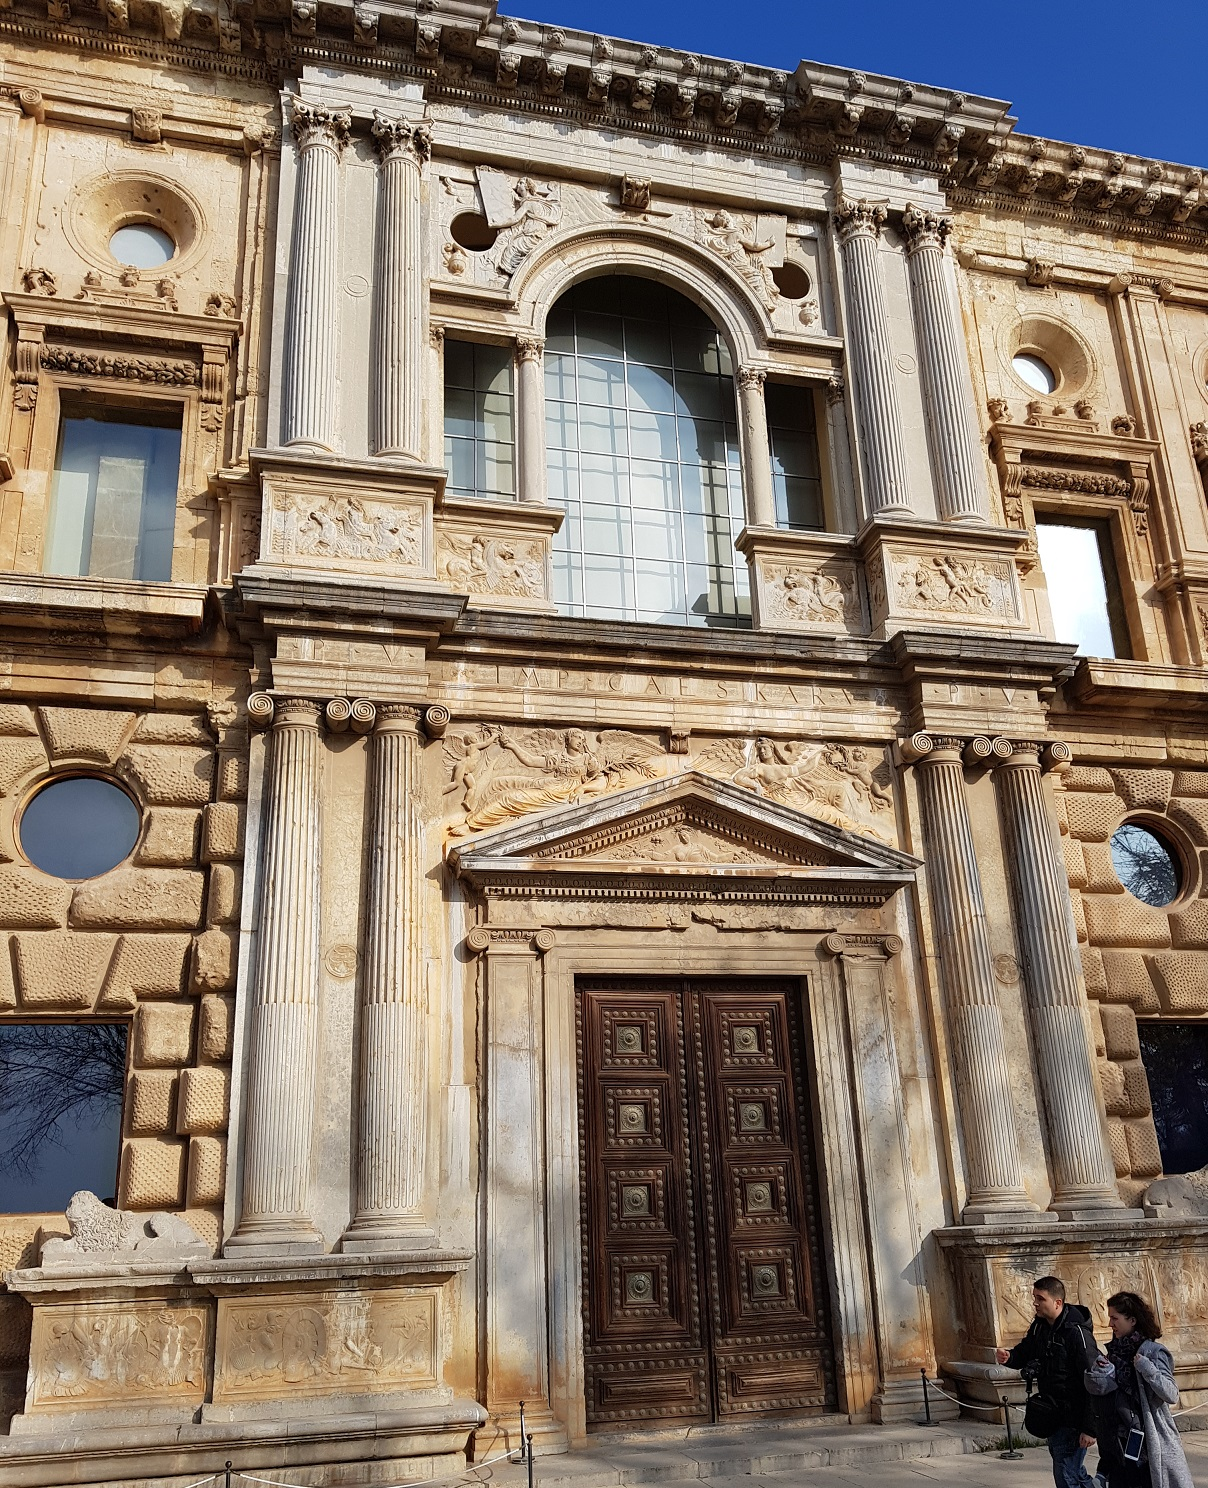fronton: (439, 763, 927, 894)
ojo-de-buey: (11, 747, 154, 886), (67, 164, 205, 271), (1108, 803, 1208, 914), (1002, 309, 1098, 403)
serliana: (431, 218, 867, 531)
vano-adintelado: (534, 932, 876, 1442), (31, 362, 201, 589), (1017, 484, 1169, 673)
